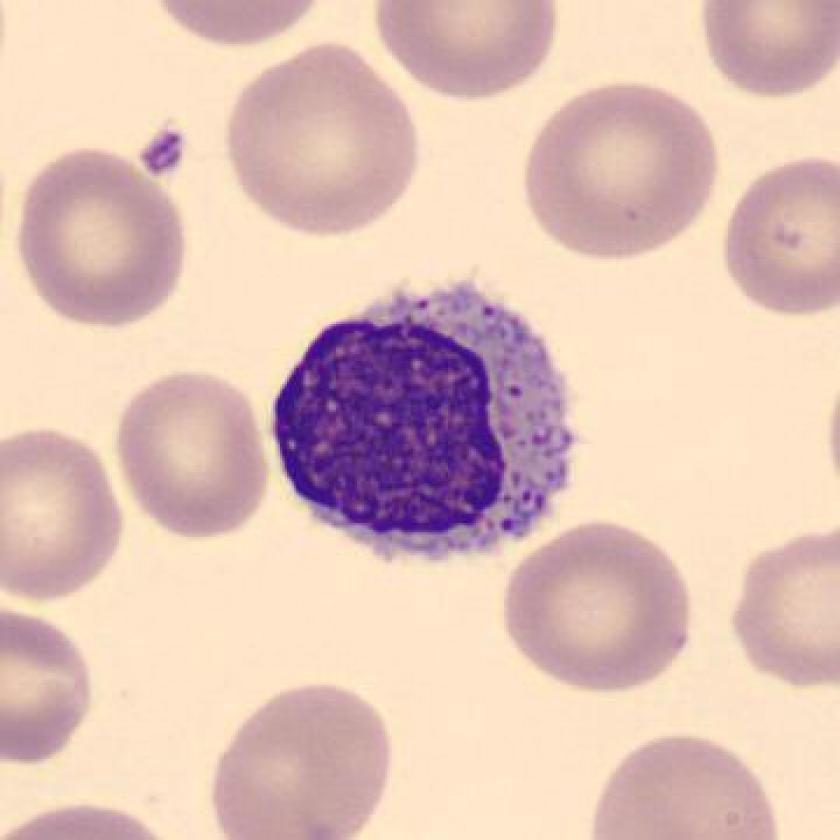lymphocyte: (255, 263, 596, 580)
